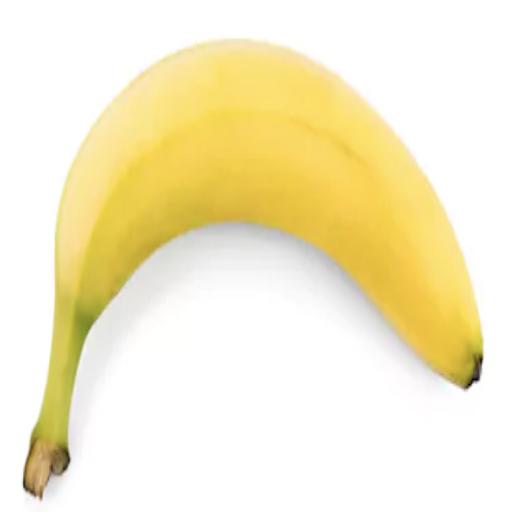banana: (25, 41, 482, 496)
